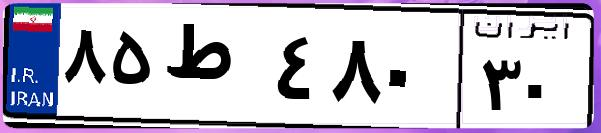0: (385, 28, 445, 110), (525, 38, 570, 115)
3: (475, 38, 525, 113)
4: (270, 28, 330, 110)
5: (110, 28, 158, 98)
8: (330, 28, 385, 110), (57, 26, 110, 100)
ط: (158, 20, 270, 120)
